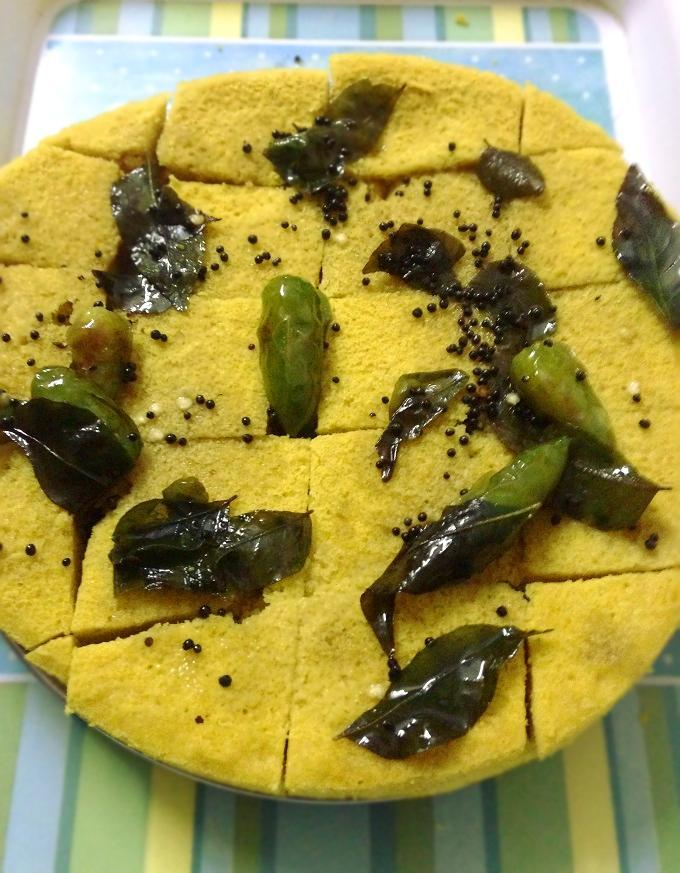dhokla: (35, 94, 645, 832)
